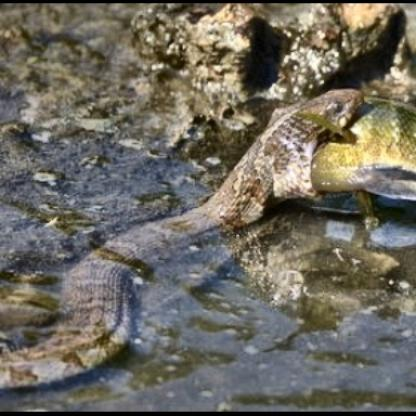Snake: (83, 86, 382, 260)
